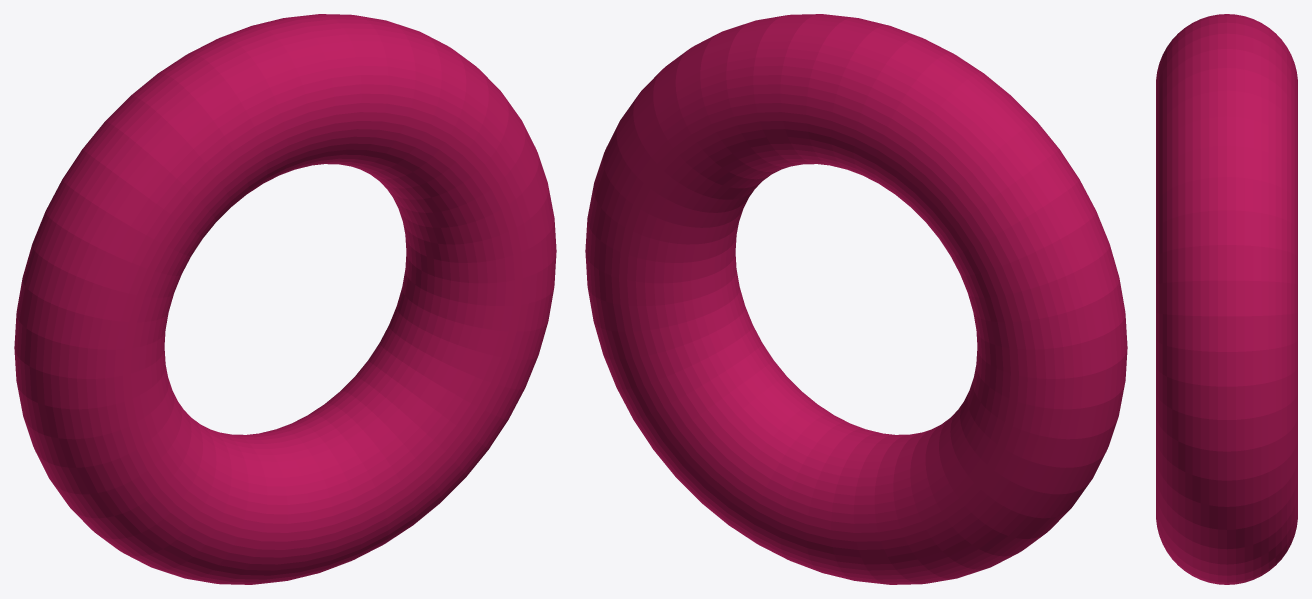
3 views of the same model, side by side, from view 1: azimuth 30°, elevation 25°; view 2: azimuth 150°, elevation 25°; view 3: azimuth 270°, elevation 25° (orthographic). The views are drawn at different scales.
Parts seen in each view (by area): view 1: world; view 2: world; view 3: world.
Part boxes in pixels (bbox=[...]): world: bbox=[14, 14, 556, 584]; world: bbox=[585, 14, 1127, 584]; world: bbox=[1156, 14, 1297, 584].
Size of the model in its own units: 39.07 by 38.99 by 9.71.
